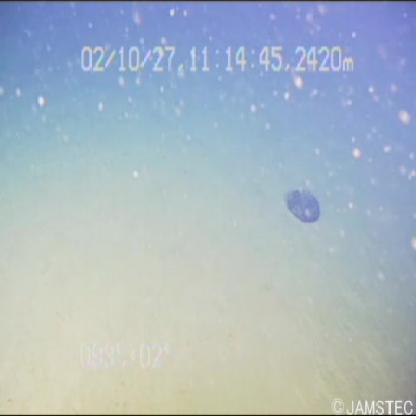Rác: (270, 179, 338, 237)
